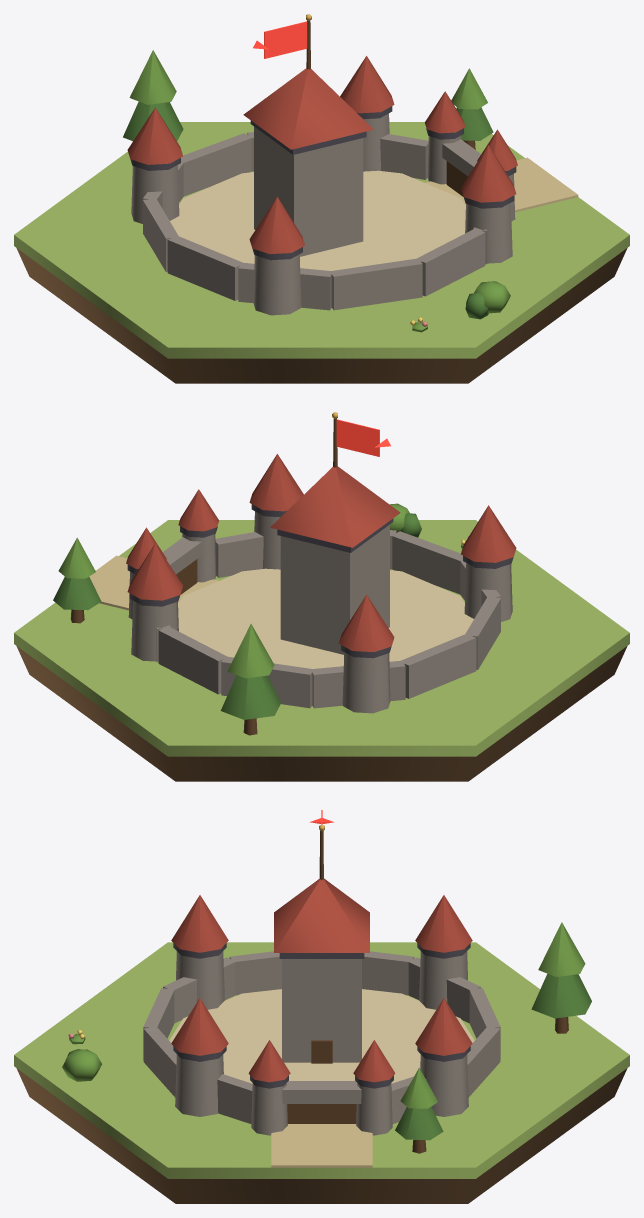
The model's file is tile_base_keep.glb.
The picture shows the model from 3 angles, top to bottom: view 1: azimuth 30°, elevation 25°; view 2: azimuth 150°, elevation 25°; view 3: azimuth 270°, elevation 25°; orthographic projection.
Parts seen in each view (by area): view 1: ground, courtyard, ground_soil, keep, keep_roof, wall_7, wall_5, wall_2, wall_8, tower_2_body, road, tower_3_body (+20 smaller); view 2: ground, ground_soil, courtyard, keep, keep_roof, wall_4, wall_7, wall_1, tower_1_body, deco_tree_0_crown, wall_2, tower_0_body (+19 smaller); view 3: ground, ground_soil, courtyard, keep, keep_roof, road, tower_3_body, tower_0_body, deco_tree_0_crown, tower_0_roof, tower_3_roof, tower_1_roof (+23 smaller).
Boxes of the visible parts, x1,y1,x2,y2 form: ground: [14, 122, 629, 358]; courtyard: [170, 170, 465, 270]; ground_soil: [16, 248, 627, 383]; keep: [254, 126, 363, 256]; keep_roof: [243, 68, 373, 149]; wall_7: [329, 258, 422, 310]; wall_5: [167, 236, 242, 300]; wall_2: [181, 133, 251, 196]; wall_8: [416, 229, 485, 296]; tower_2_body: [253, 254, 301, 315]; road: [424, 157, 578, 212]; tower_3_body: [465, 203, 512, 263]; ground: [14, 520, 629, 756]; ground_soil: [16, 646, 627, 781]; courtyard: [178, 568, 473, 668]; keep: [280, 524, 389, 654]; keep_roof: [270, 466, 400, 547]; wall_4: [401, 634, 476, 698]; wall_7: [392, 531, 462, 594]; wall_1: [158, 627, 226, 694]; tower_1_body: [342, 652, 390, 713]; deco_tree_0_crown: [220, 675, 281, 719]; wall_2: [221, 656, 314, 708]; tower_0_body: [131, 601, 178, 661]; ground: [14, 942, 629, 1178]; ground_soil: [16, 1068, 627, 1203]; courtyard: [169, 989, 474, 1083]; keep: [282, 959, 361, 1062]; keep_roof: [274, 878, 369, 952]; road: [271, 1124, 372, 1167]; tower_3_body: [175, 1054, 223, 1116]; tower_0_body: [420, 1054, 468, 1116]; deco_tree_0_crown: [531, 973, 591, 1018]; tower_0_roof: [415, 998, 472, 1055]; tower_3_roof: [171, 998, 228, 1055]; tower_1_roof: [415, 895, 472, 952].
Size of the model in its own units: 1.73 by 0.952 by 2.
